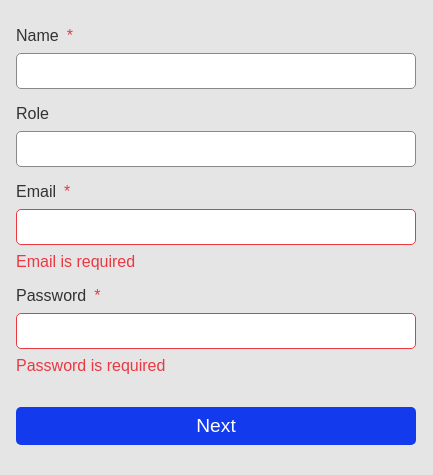
Test: validation › validates Email field
Step 1. Click the button with test id "custom-btn" → (216, 426), box top-left (16, 407), bottom-right (416, 445)
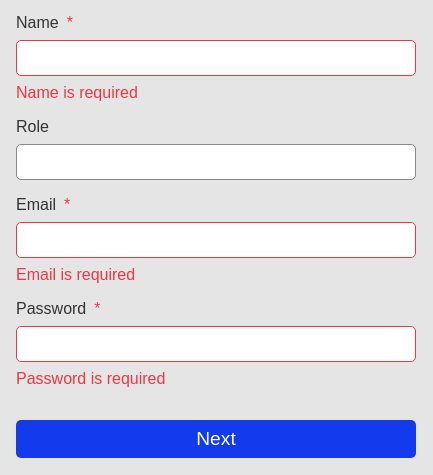
Expected: the text "Email is required" is shown, top-left (16, 266), bottom-right (135, 283)
Step 2. Type "test" into the field labelled "Email" → (216, 240), box top-left (16, 222), bottom-right (416, 258)
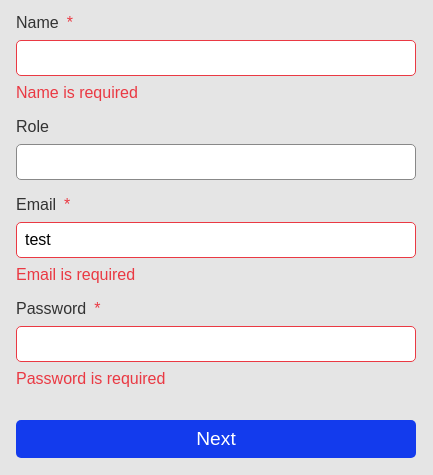
Step 3. Click the button with test id "custom-btn" → (216, 439), box top-left (16, 420), bottom-right (416, 458)
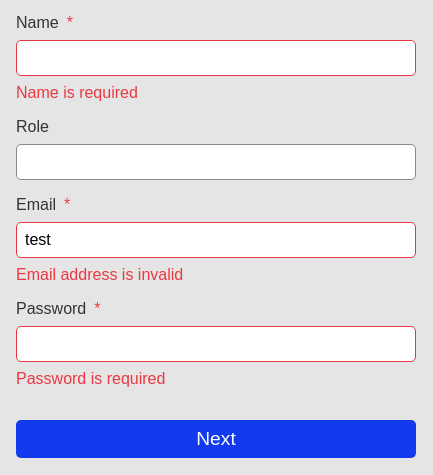
Expected: the text "Email address is invalid" is shown, top-left (16, 266), bottom-right (183, 283)
Step 4. Replace the text in the field labelled "Email" with "david@test.com" → (216, 240), box top-left (16, 222), bottom-right (416, 258)
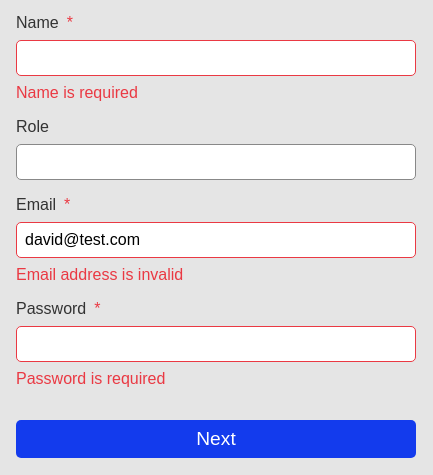
Step 5. Click the button with test id "custom-btn" → (216, 439), box top-left (16, 420), bottom-right (416, 458)
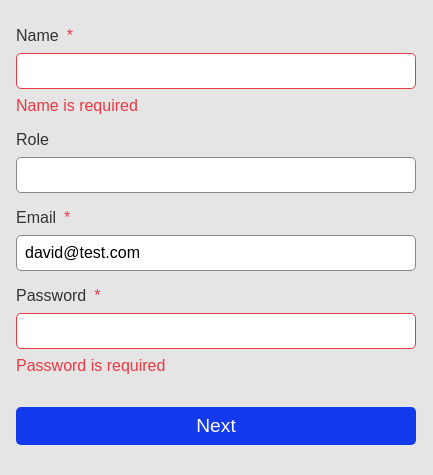
Expected: the text "Email address is invalid" is gone
